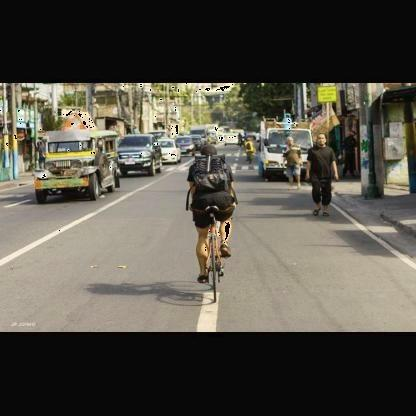Bicycle: (171, 181, 249, 306)
